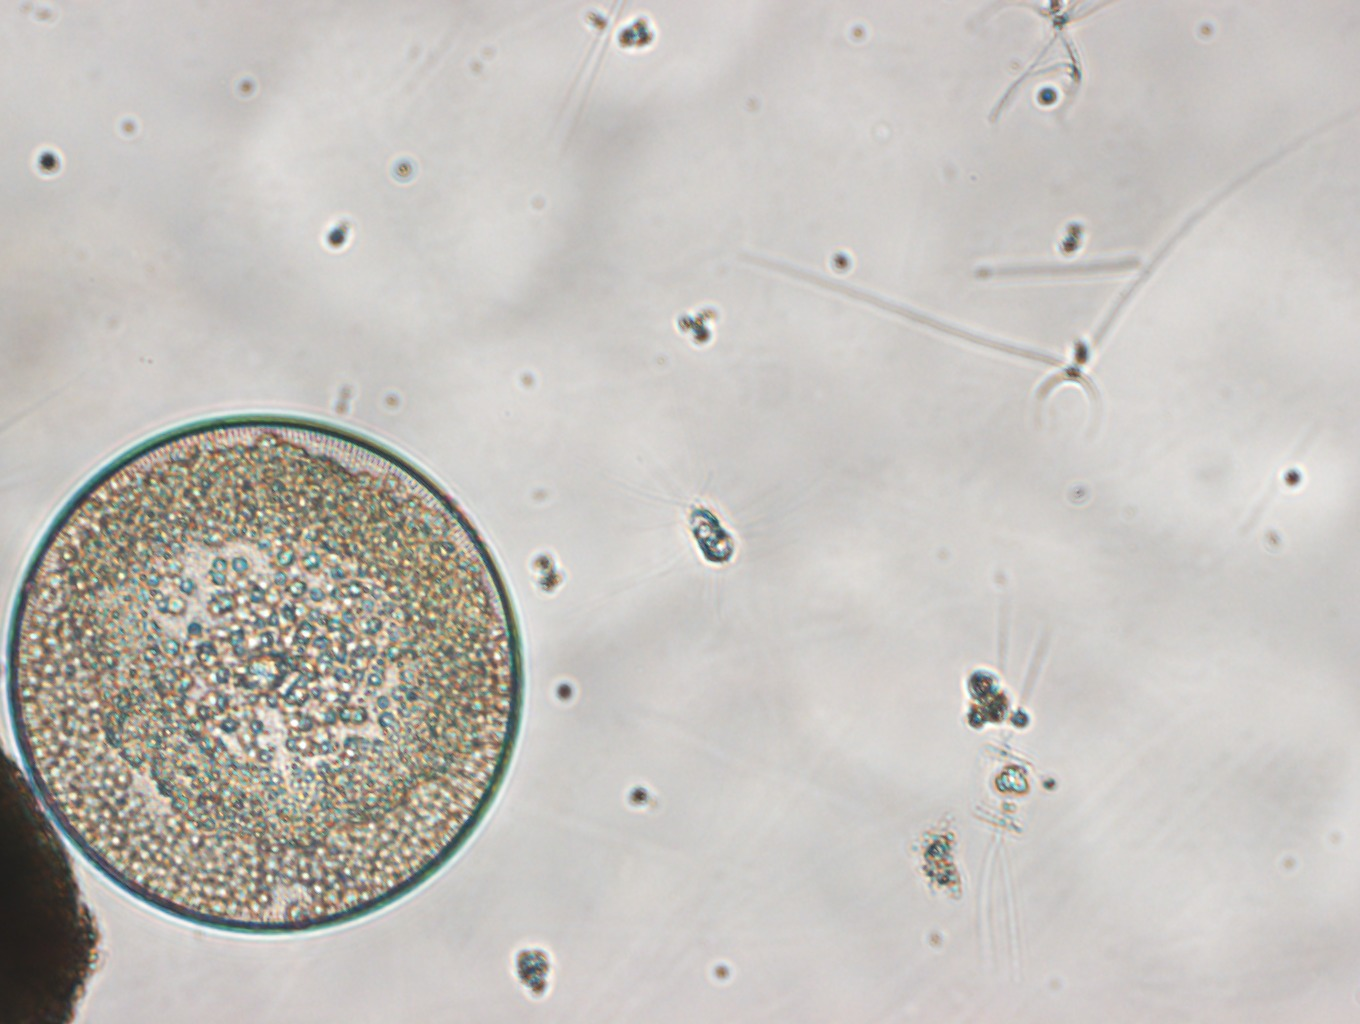chaetoceros: (969, 593, 1055, 996)
coscinodiscus: (6, 409, 524, 935)
